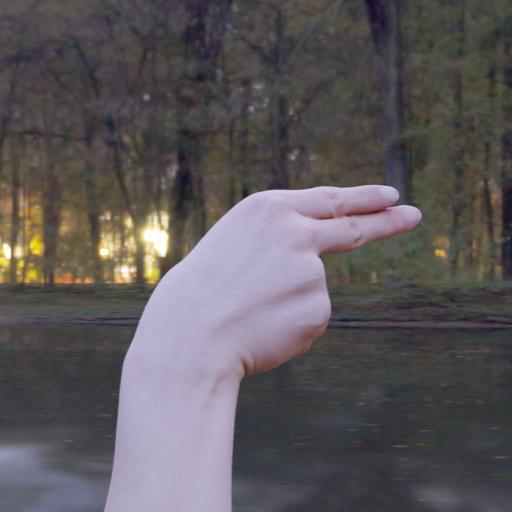H: (136, 174, 428, 382)
